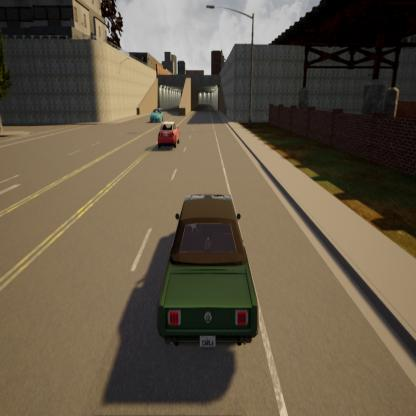Cars: (156, 182, 263, 357), (156, 119, 181, 154), (149, 104, 164, 123)
